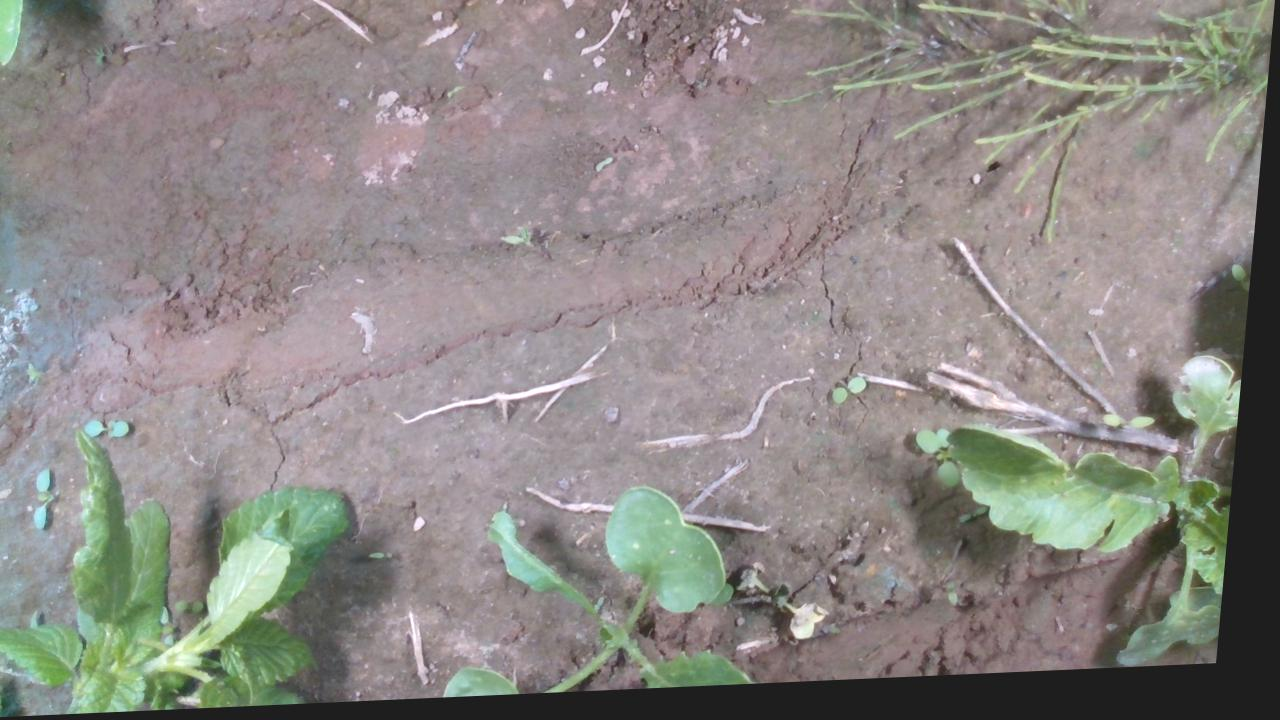weed: (837, 382, 875, 413), (1108, 421, 1166, 441)
